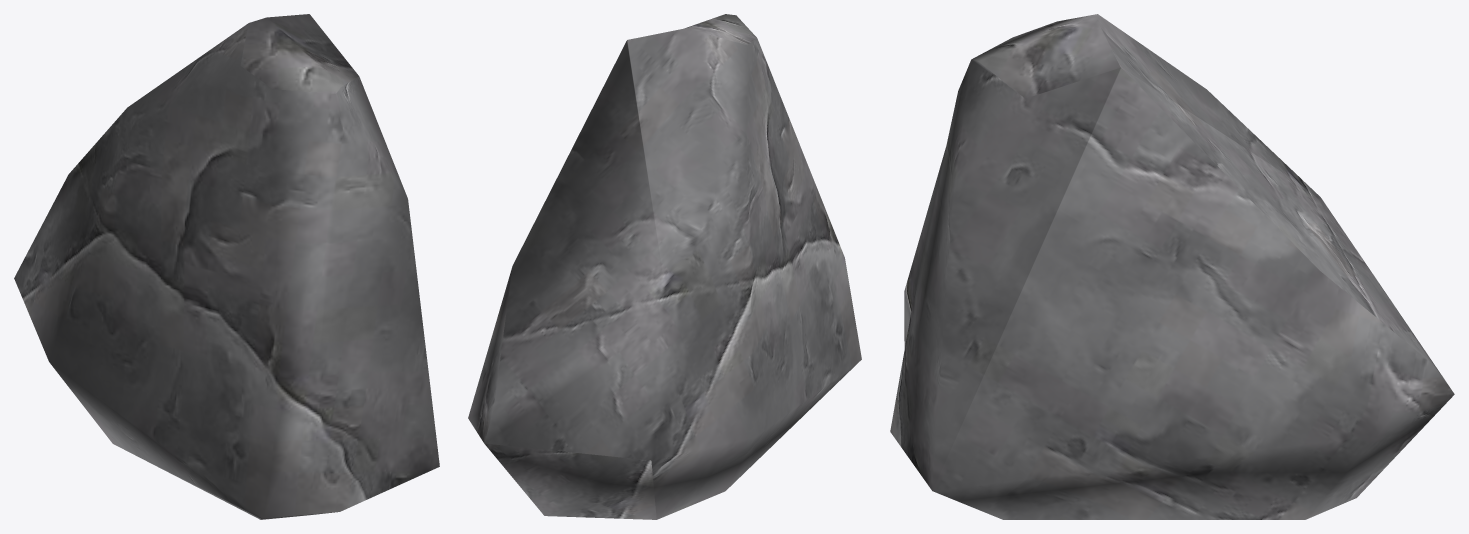
Rendered from rocky3.fbx.
3 views of the same model, side by side, from view 1: azimuth 30°, elevation 25°; view 2: azimuth 150°, elevation 25°; view 3: azimuth 270°, elevation 25° (orthographic). The views are drawn at different scales.
Visible parts, largest first — view 1: rocky3; view 2: rocky3; view 3: rocky3.
Part boxes in pixels (x1=…): rocky3: x1=14, y1=14, x2=439, y2=519; rocky3: x1=468, y1=14, x2=861, y2=519; rocky3: x1=890, y1=14, x2=1454, y2=519.
Bounding box in the file's own units: 1.33 × 2.31 × 2.54.
1 material, 1 textured.
